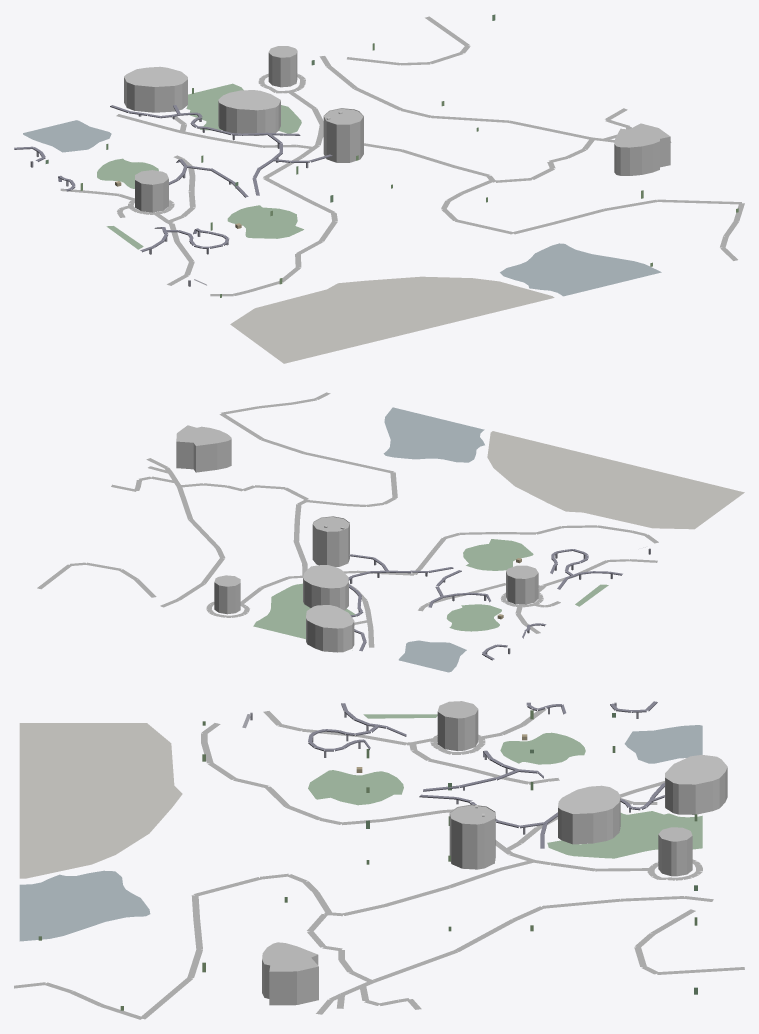
3 views of the same model, one above another, from view 1: azimuth 30°, elevation 25°; view 2: azimuth 150°, elevation 25°; view 3: azimuth 270°, elevation 25° (orthographic). The views are drawn at different scales.
Size of the model in its own units: 525 by 48.15 by 535.
